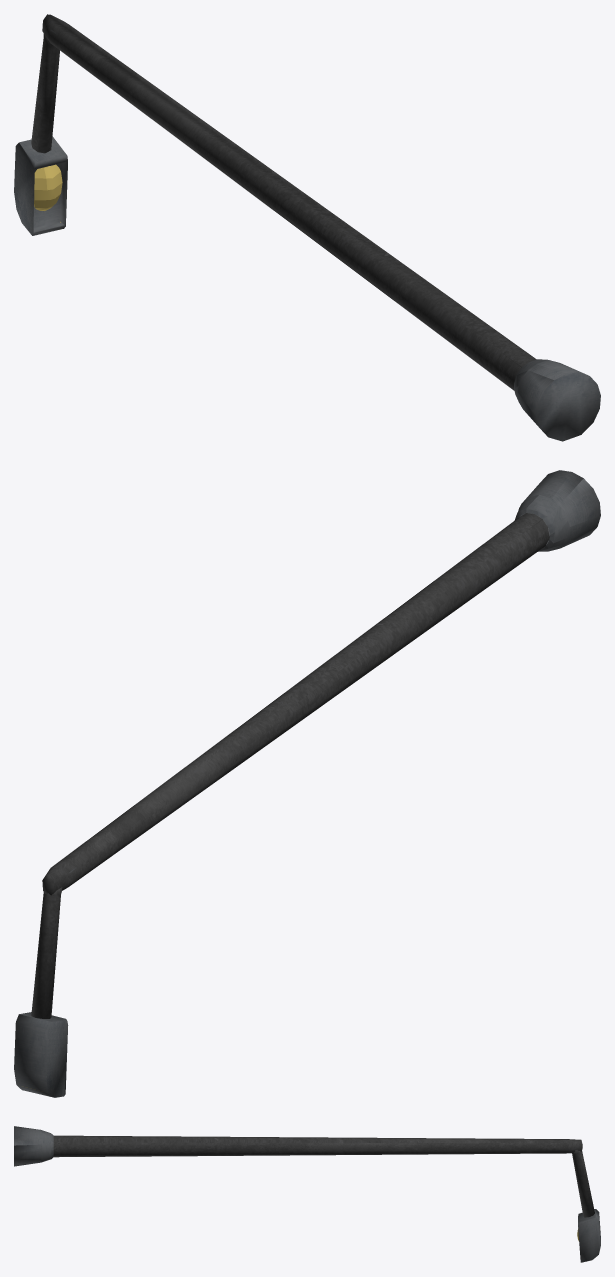
The model's file is Lamp01.fbx.
The picture shows the model from 3 angles, top to bottom: view 1: azimuth 30°, elevation 25°; view 2: azimuth 150°, elevation 25°; view 3: azimuth 270°, elevation 25°; orthographic projection. The views are drawn at different scales.
Parts seen in each view (by area): view 1: Pole.004; view 2: Pole.004; view 3: Pole.004.
Part boxes in pixels (x1,y1,x2,y2): Pole.004: (14,14,600,441); Pole.004: (14,470,600,1097); Pole.004: (14,1126,600,1262).
Size of the model in its own units: 0.7368 by 2.65 by 10.77.
1 material, 1 textured.
